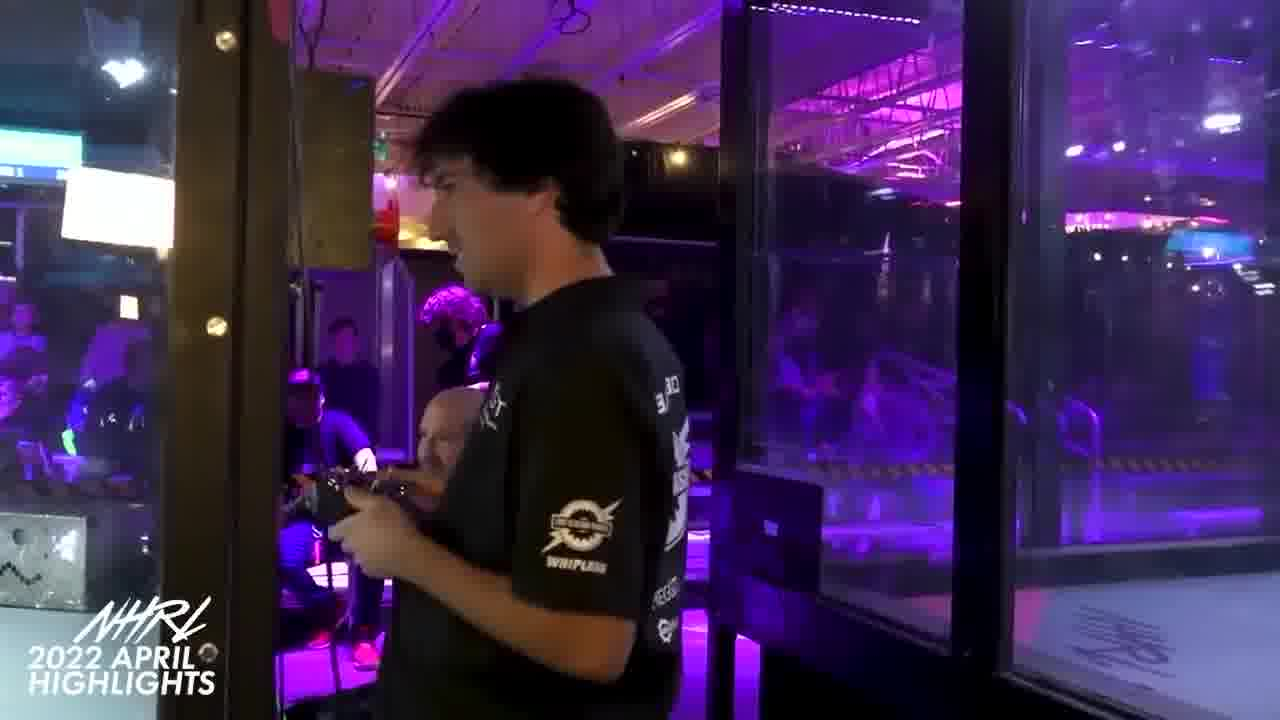housebot: (1, 505, 106, 613)
